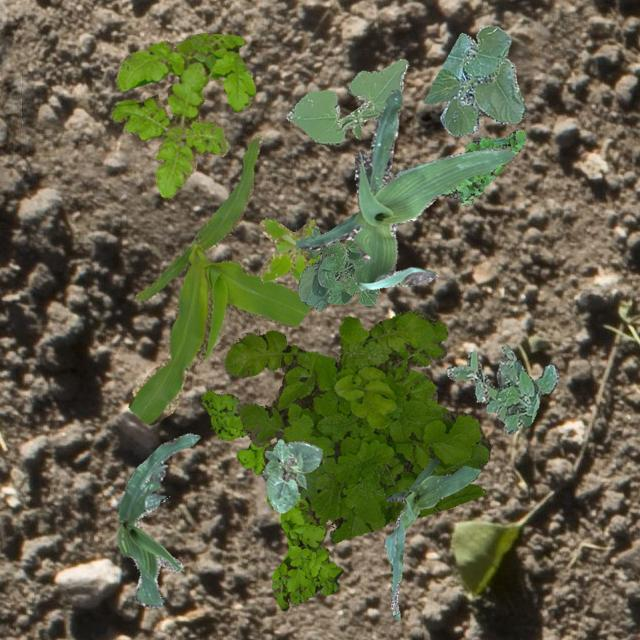crop: (127, 132, 310, 424), (294, 88, 512, 290), (382, 456, 480, 620), (115, 432, 198, 608), (422, 24, 524, 136), (286, 58, 408, 144), (298, 224, 378, 310), (260, 438, 322, 512)
weed: (224, 309, 491, 542), (200, 388, 342, 610), (110, 31, 254, 198), (446, 342, 558, 432), (440, 128, 524, 204), (258, 216, 320, 284)
